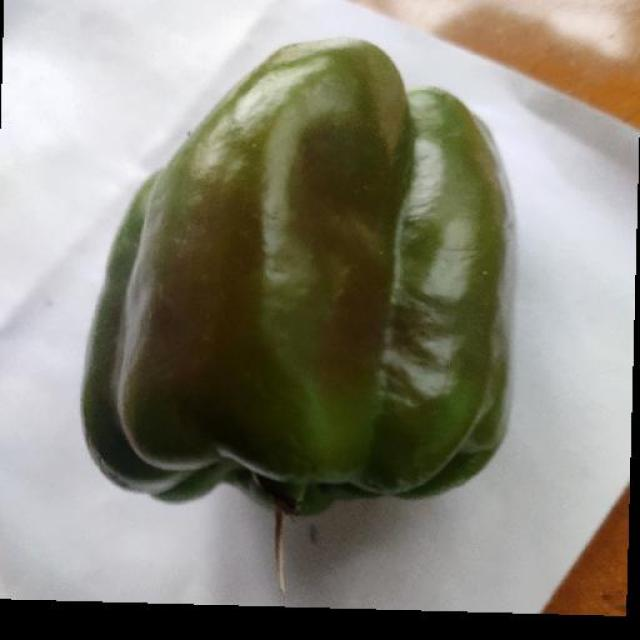Stale_Capsicum: (71, 111, 513, 504)
